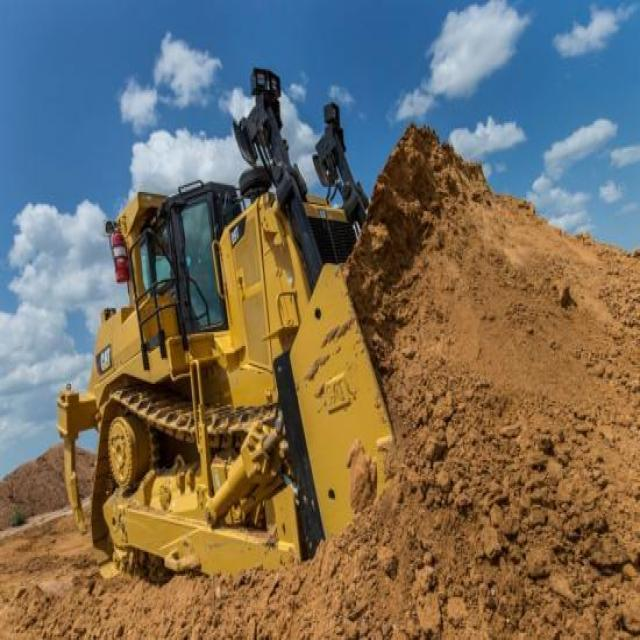buldozerpayloadergrader: (47, 68, 480, 600)
